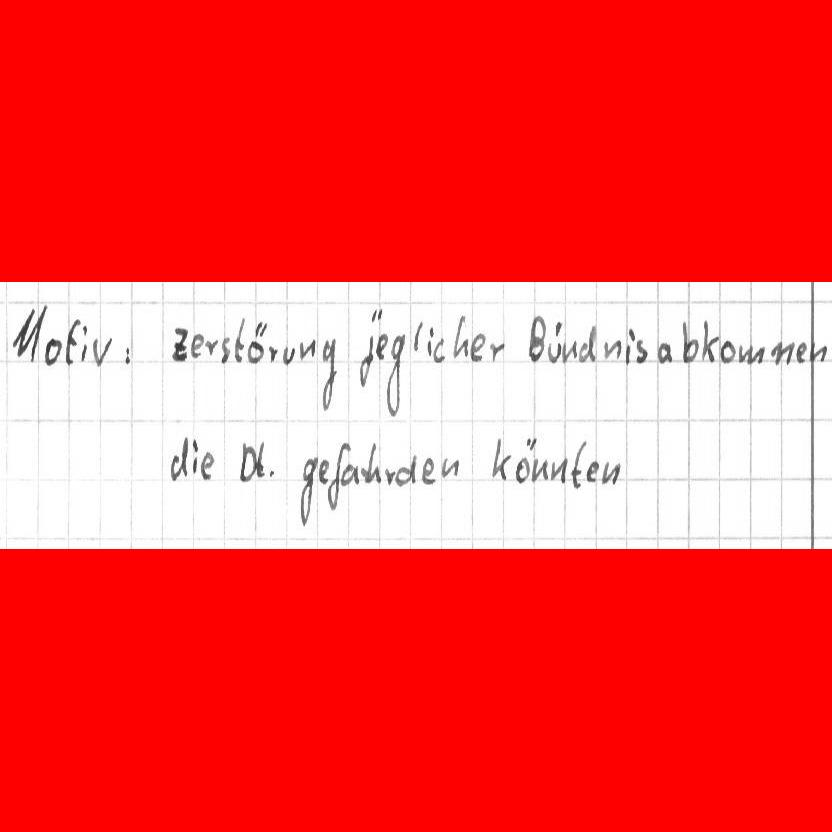Char: (6, 300, 47, 365), (357, 305, 377, 388), (386, 329, 405, 416), (320, 333, 340, 412), (298, 454, 318, 528), (325, 442, 343, 511), (166, 433, 189, 481), (514, 435, 535, 486), (527, 312, 547, 363), (361, 440, 383, 485), (451, 311, 470, 362), (489, 436, 511, 480), (679, 319, 700, 365), (247, 319, 267, 365), (568, 439, 586, 489), (63, 316, 81, 365), (169, 323, 190, 365), (701, 318, 721, 362), (231, 315, 248, 366), (238, 441, 258, 482), (91, 335, 114, 368), (580, 323, 598, 362), (396, 454, 417, 487), (737, 342, 767, 365), (42, 337, 64, 368), (547, 319, 562, 364), (770, 339, 795, 366), (198, 450, 220, 480), (483, 338, 507, 364), (549, 455, 570, 484), (411, 317, 425, 360), (469, 330, 487, 363), (254, 439, 268, 481), (297, 335, 317, 364), (600, 459, 622, 484), (654, 339, 674, 366), (420, 450, 435, 486), (809, 339, 831, 363), (217, 331, 232, 364), (341, 461, 360, 487), (432, 335, 448, 365), (374, 329, 389, 360), (602, 338, 621, 362), (582, 458, 600, 483), (189, 330, 205, 358), (719, 337, 736, 363), (624, 326, 635, 366), (561, 337, 577, 364), (531, 456, 547, 483), (441, 455, 460, 477), (632, 338, 648, 363), (281, 341, 296, 367), (794, 339, 809, 365), (80, 321, 89, 364), (121, 342, 136, 367), (203, 334, 219, 356), (317, 459, 330, 486), (191, 435, 199, 475), (265, 341, 278, 364), (425, 325, 433, 359), (383, 468, 396, 486), (266, 466, 281, 480)
